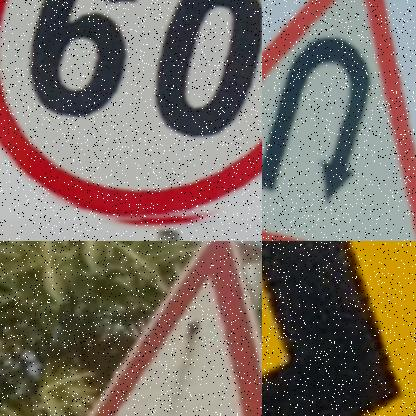Sharp Right Turn: (262, 241, 416, 416)
Speed Breaker Ahead: (96, 241, 262, 416)
U-Turn: (262, 0, 416, 241)
